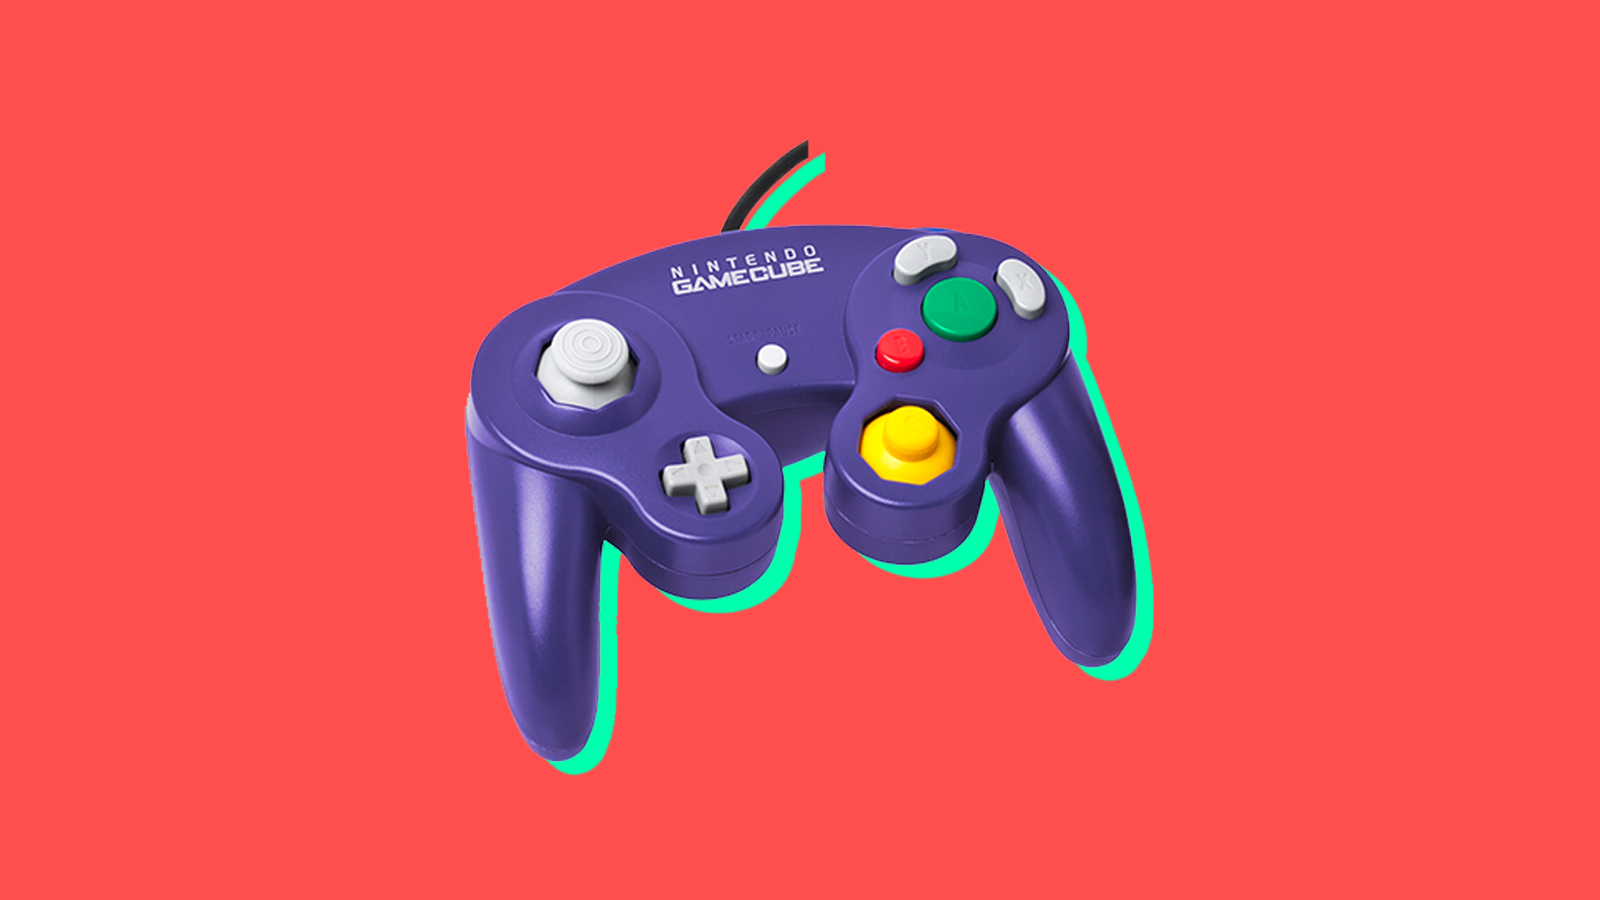controller: (465, 224, 1141, 764)
